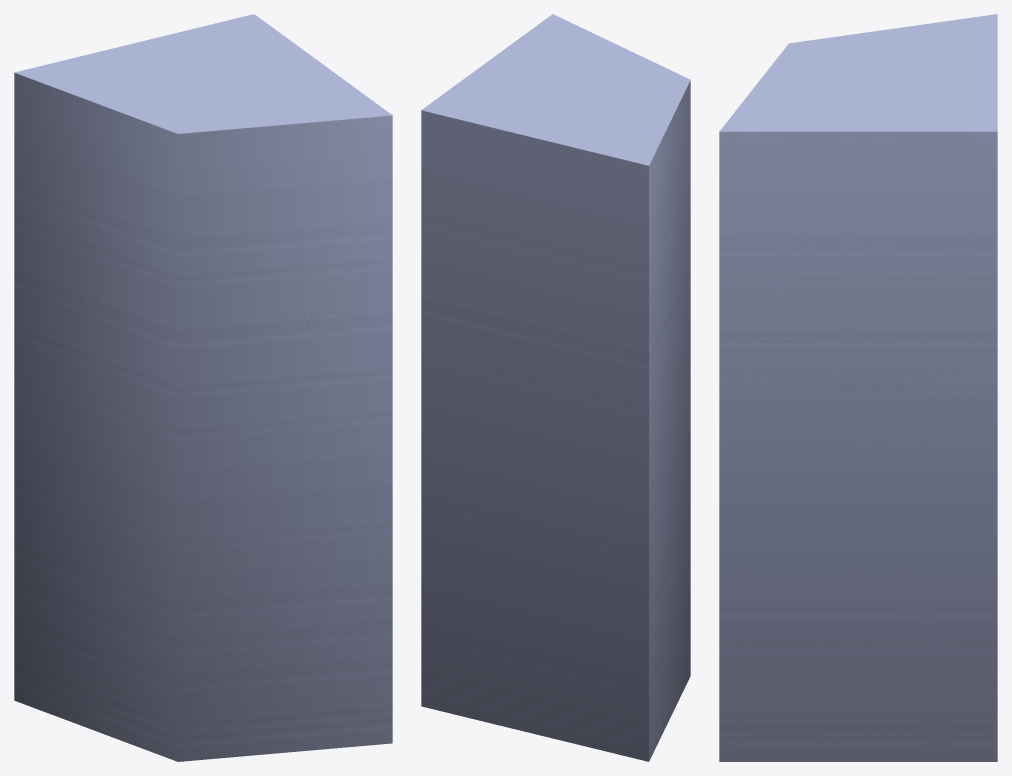
File: prototype-kit--column-rounded-low.glb
3 views of the same model, side by side, from view 1: azimuth 30°, elevation 25°; view 2: azimuth 150°, elevation 25°; view 3: azimuth 270°, elevation 25° (orthographic). The views are drawn at different scales.
Visible parts, largest first — view 1: column-rounded-low; view 2: column-rounded-low; view 3: column-rounded-low.
Part boxes in pixels (box(x1,y1,x2,y2)): column-rounded-low: box(14, 14, 392, 761); column-rounded-low: box(421, 14, 690, 761); column-rounded-low: box(719, 14, 997, 761).
Bounding box in the file's own units: 0.2 × 0.5 × 0.2.
1 material, 1 textured.
